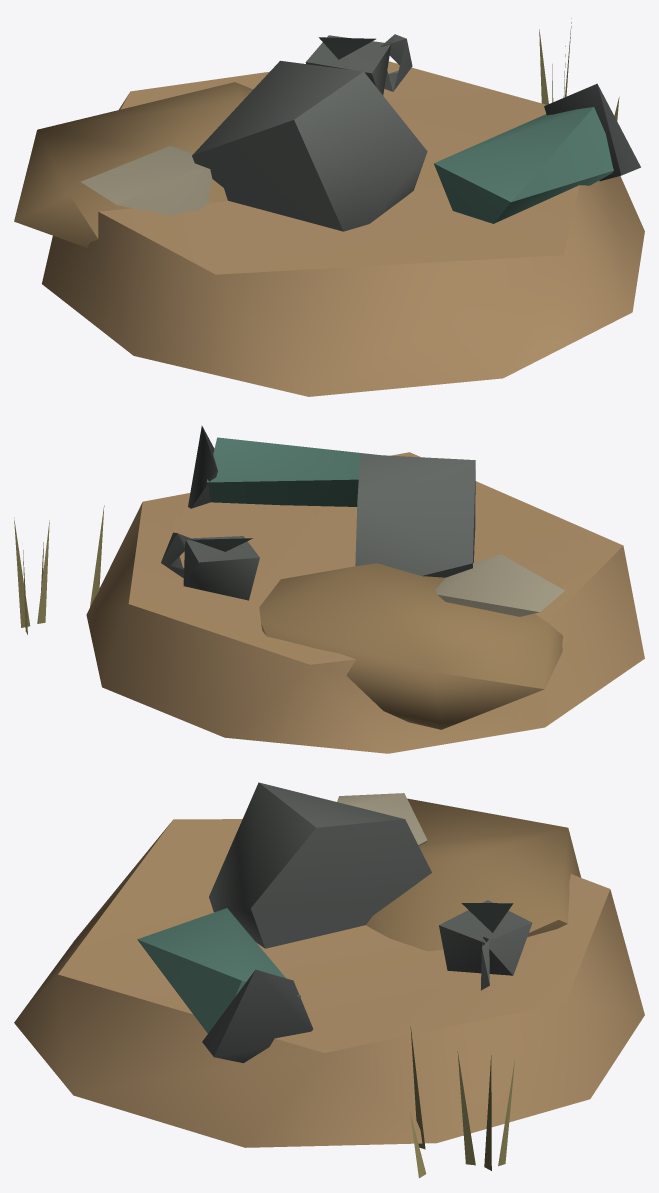
File: lunch_pail_b_lod2.glb
3 views of the same model, one above another, from view 1: azimuth 30°, elevation 25°; view 2: azimuth 150°, elevation 25°; view 3: azimuth 270°, elevation 25° (orthographic). The views are drawn at different scales.
Parts seen in each view (by area): view 1: Surface.001; view 2: Surface.001; view 3: Surface.001.
Boxes of the visible parts, box(x1,y1,x2,y2) form: Surface.001: box(14, 18, 644, 396); Surface.001: box(14, 426, 644, 753); Surface.001: box(14, 782, 644, 1178).
Size of the model in its own units: 2.69 by 0.8805 by 2.5.
